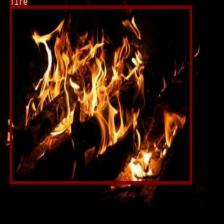fire: (10, 6, 192, 184)
